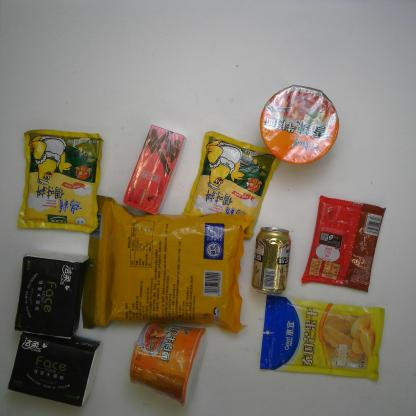Alcohol: (248, 223, 297, 299)
Dessert: (300, 194, 395, 294)
Dried Food: (77, 190, 254, 337)
Dried Fruit: (256, 286, 389, 383)
Instant Drink: (122, 121, 186, 216)
Instant Noodles: (124, 316, 214, 408), (256, 83, 346, 170)
Seasoner: (182, 126, 277, 242), (16, 124, 107, 236)
Tissue: (5, 330, 106, 408), (12, 253, 89, 338)
